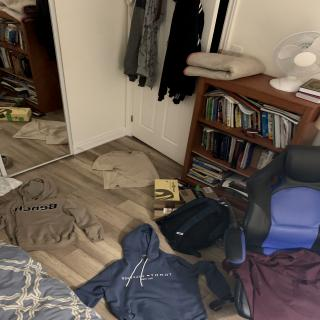Blue Hoodie: (109, 223, 218, 320)
Maroon T-Shirt: (225, 247, 320, 320)
Yellow Hoodie: (0, 178, 87, 252)
Yellow T-Shirt: (90, 146, 160, 194)
